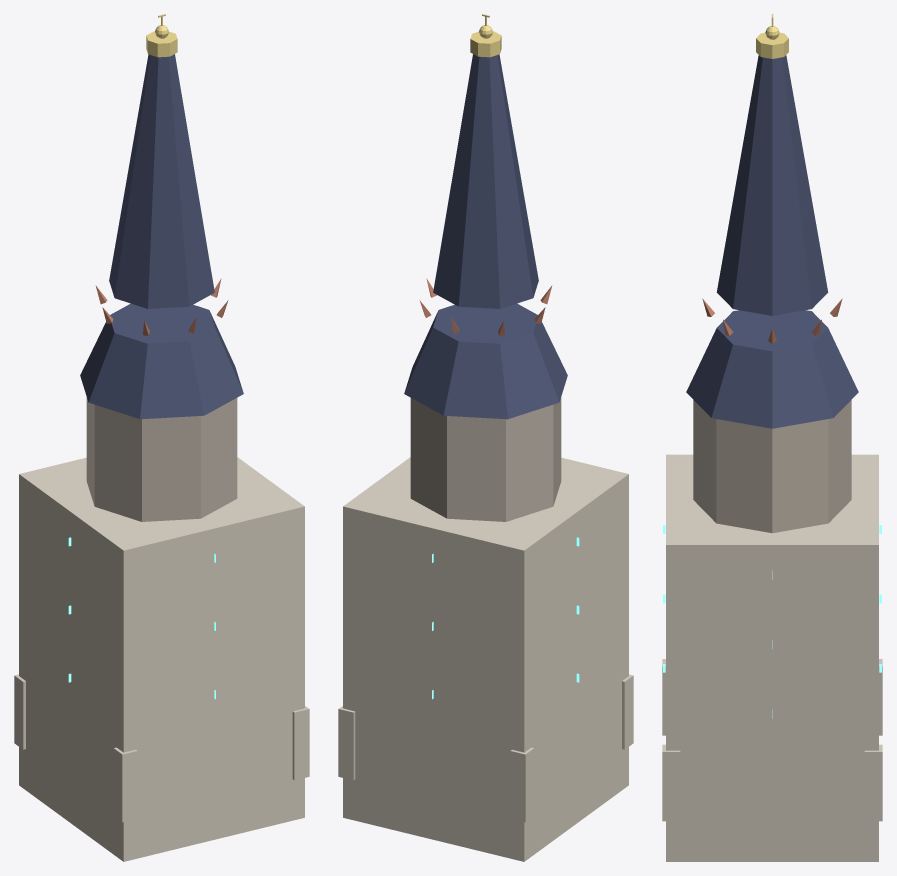
File: church_spire_v15.glb
3 renders of one model, left to right at view 1: azimuth 30°, elevation 25°; view 2: azimuth 150°, elevation 25°; view 3: azimuth 270°, elevation 25°, orthographic.
Parts seen in each view (by area): view 1: Cube, Cone.001, Cylinder, Cone, Cube.001, Cube.002, Cube.003, Cylinder.001; view 2: Cube, Cone.001, Cylinder, Cone, Cube.003, Cube.004, Cube.001, Cylinder.001; view 3: Cube, Cone.001, Cylinder, Cone, Cube.002, Cube.004, Cylinder.001.
Boxes of the visible parts, x1,y1,x2,y2 form: Cube: (19, 457, 304, 861); Cone.001: (109, 54, 214, 308); Cylinder: (86, 397, 237, 521); Cone: (80, 303, 243, 419); Cube.001: (113, 747, 137, 822); Cube.002: (292, 706, 309, 780); Cube.003: (14, 674, 25, 749); Cylinder.001: (146, 31, 177, 57); Cube: (343, 457, 628, 861); Cone.001: (433, 54, 538, 308); Cylinder: (410, 397, 561, 521); Cone: (404, 303, 567, 419); Cube.003: (510, 747, 534, 822); Cube.004: (338, 706, 355, 780); Cube.001: (622, 674, 633, 749); Cylinder.001: (470, 31, 501, 57); Cube: (666, 454, 878, 861); Cone.001: (716, 55, 828, 315); Cylinder: (693, 400, 851, 533); Cone: (686, 310, 858, 428); Cube.002: (662, 744, 680, 821); Cube.004: (864, 744, 882, 821); Cylinder.001: (756, 32, 788, 58).
Size of the model in its own units: 4.02 by 16.17 by 4.02.
